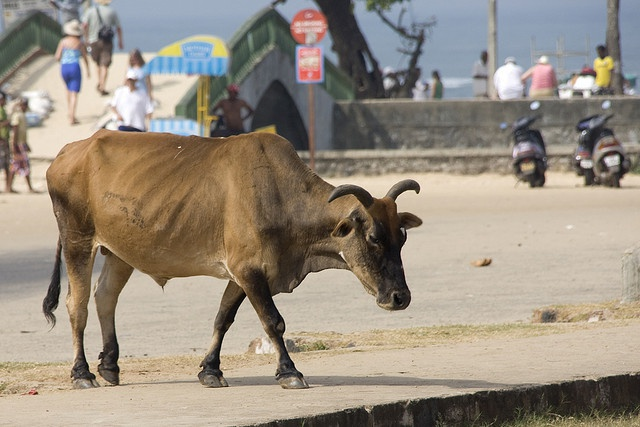non-vehicle: (494, 103, 548, 186), (576, 102, 630, 185)
